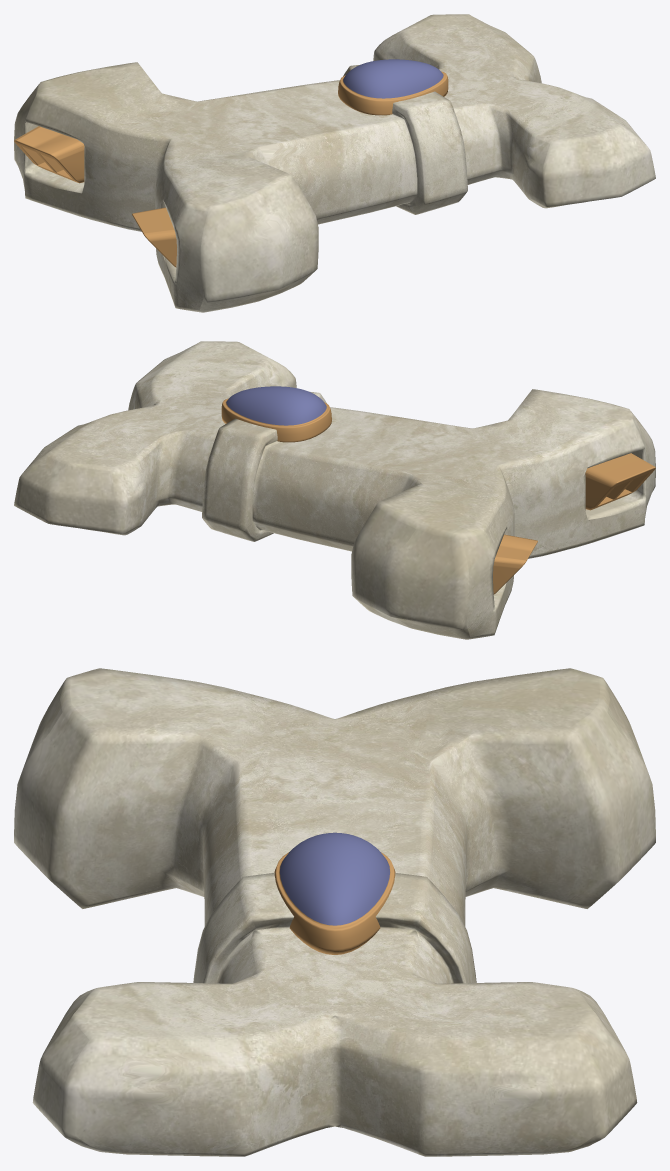
File: dogShip2.fbx
The picture shows the model from 3 angles, top to bottom: view 1: azimuth 30°, elevation 25°; view 2: azimuth 150°, elevation 25°; view 3: azimuth 270°, elevation 25°; orthographic projection. The views are drawn at different scales.
Visible parts, largest first — view 1: bone.001, glass, pSphere2.003; view 2: bone.001, glass, pSphere2.003; view 3: bone.001, glass.
Boxes of the visible parts, x1,y1,x2,y2 form: bone.001: [14, 14, 655, 312]; glass: [338, 59, 448, 115]; pSphere2.003: [14, 126, 176, 267]; bone.001: [14, 341, 655, 639]; glass: [221, 386, 331, 442]; pSphere2.003: [493, 453, 655, 594]; bone.001: [14, 668, 655, 1156]; glass: [274, 832, 395, 954].
Size of the model in its own units: 489 by 118 by 354.
